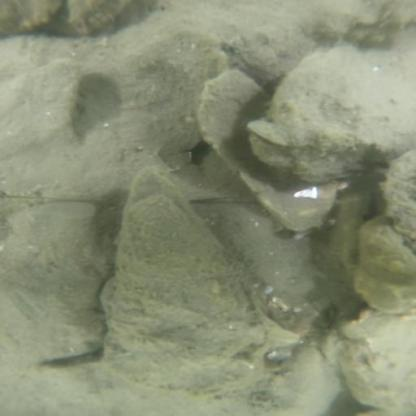Oyster-Closed: (249, 47, 416, 183), (201, 71, 341, 231), (5, 203, 108, 361), (246, 340, 334, 408), (355, 216, 416, 314)
Oyster-Open: (105, 167, 261, 387), (136, 1, 311, 78), (0, 58, 82, 155), (337, 316, 416, 416), (377, 150, 416, 254), (10, 3, 60, 36)
